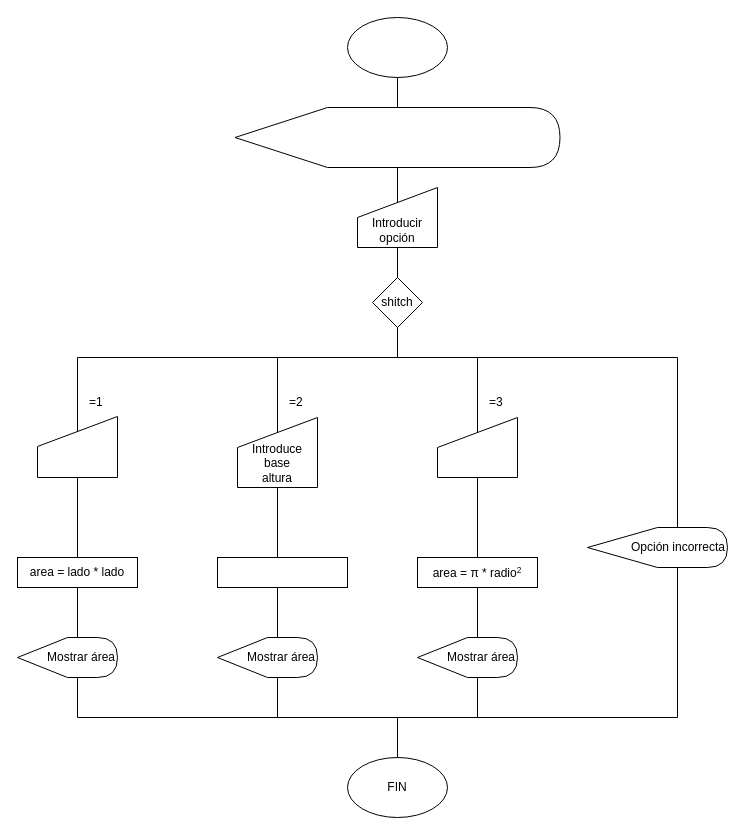
The diagram is 745 pixels wide and 835 high, and some of its shapes have lost their labels. The shapes that lost their labels are listed below. From the top down, each one's centre as x and y in pixels, then its label:
At point 397,47: "INICIO".
At point 397,137: "Elige una figura geométrica: 1. Cuadrado 2. Triángulo 3. Círculo".
At point 77,447: "Introduce lado".
At point 477,447: "Introduce radio".
At point 282,572: "area = base * altura / 2".
